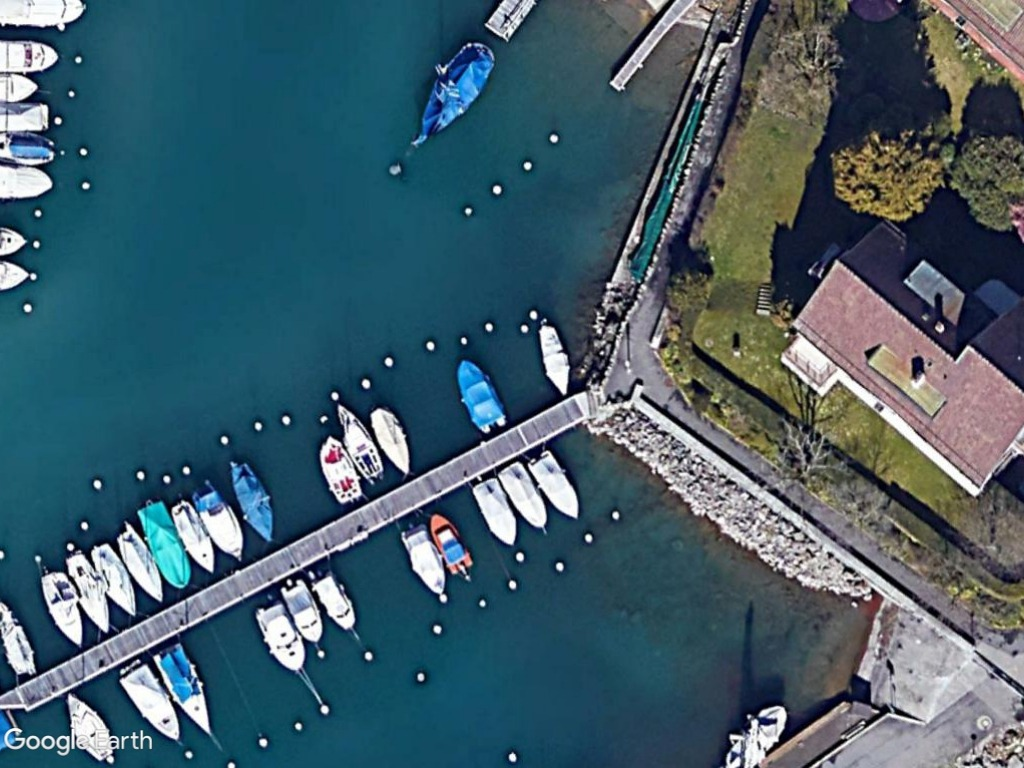boat: (406, 30, 497, 150), (149, 640, 221, 741), (130, 488, 194, 591), (118, 659, 184, 746), (327, 395, 388, 486), (114, 518, 172, 608), (187, 478, 248, 563), (59, 546, 116, 636), (525, 447, 588, 526), (497, 459, 559, 539), (227, 457, 284, 544), (250, 598, 311, 678), (36, 563, 89, 652), (467, 470, 522, 553), (453, 356, 507, 439), (87, 537, 140, 621), (398, 518, 451, 599), (169, 497, 220, 576), (416, 508, 477, 572), (306, 563, 358, 637), (275, 573, 327, 646), (368, 404, 417, 478), (535, 318, 578, 402), (314, 437, 365, 505)
